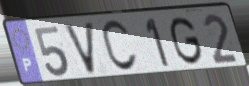1: (144, 17, 173, 70)
2: (201, 11, 240, 66)
5: (34, 24, 71, 78)
C: (100, 18, 140, 75)
G: (169, 15, 205, 67)
V: (61, 20, 97, 77)
